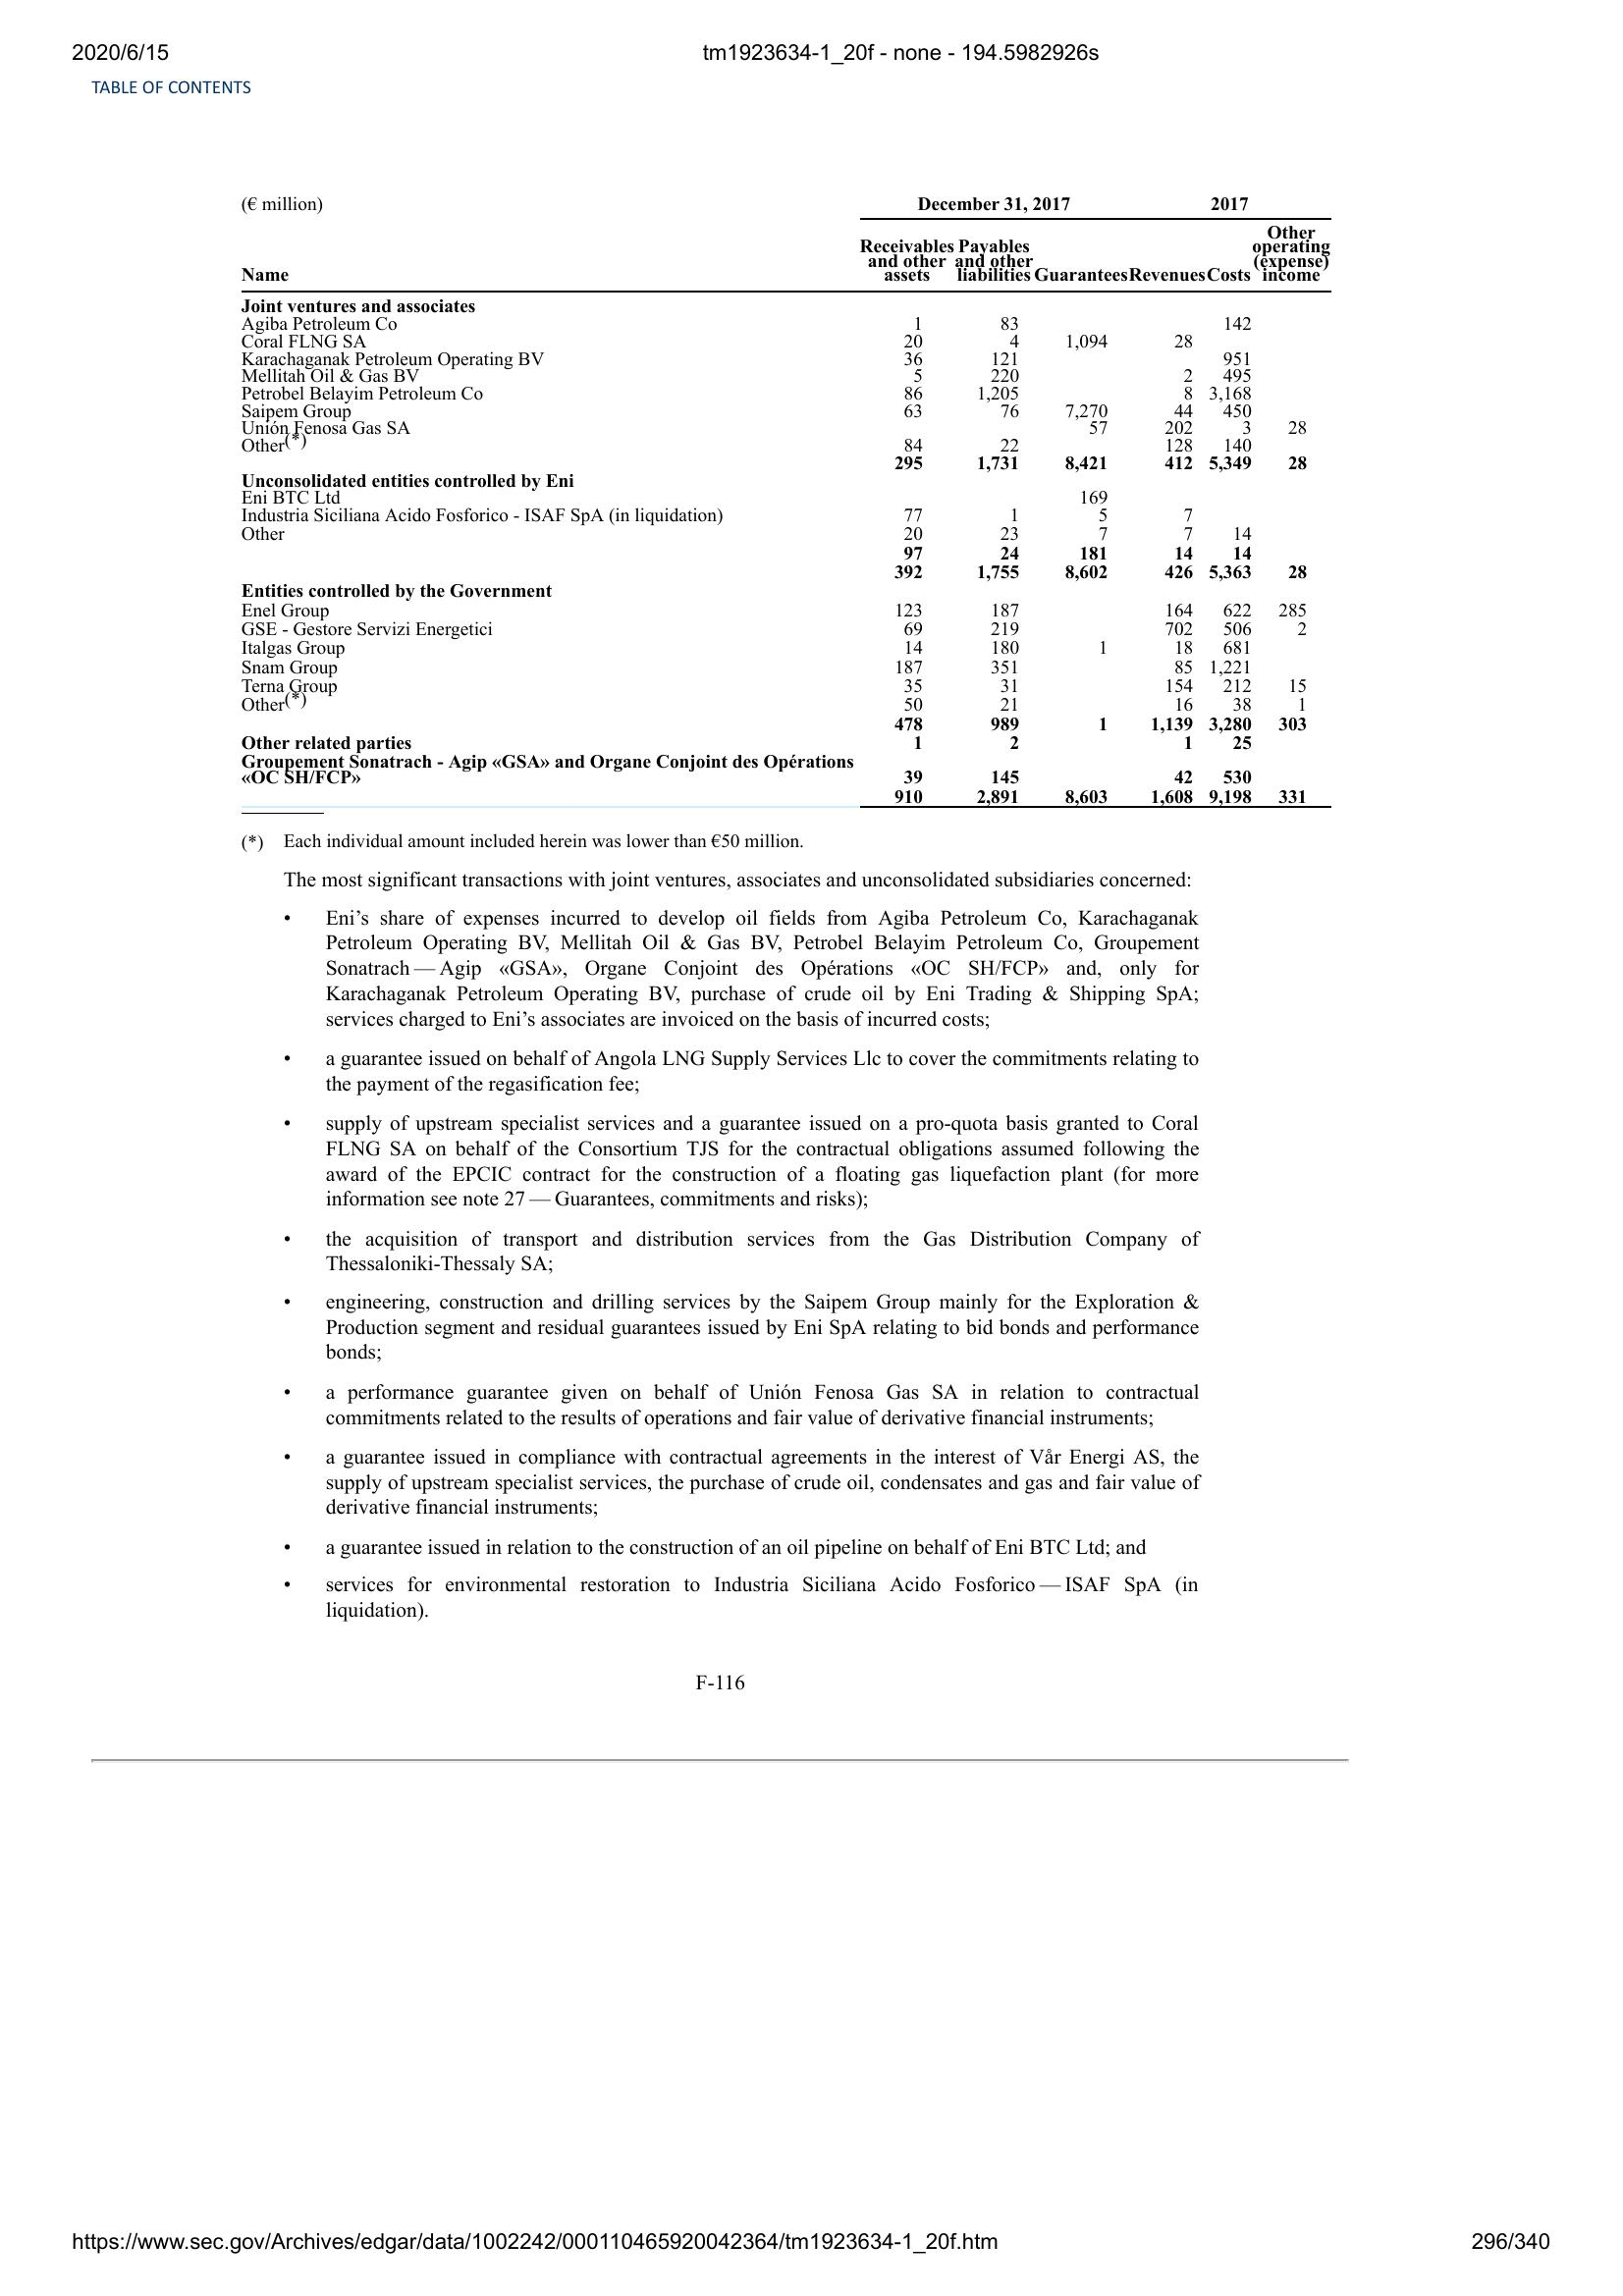table: (234, 190, 1338, 814)
